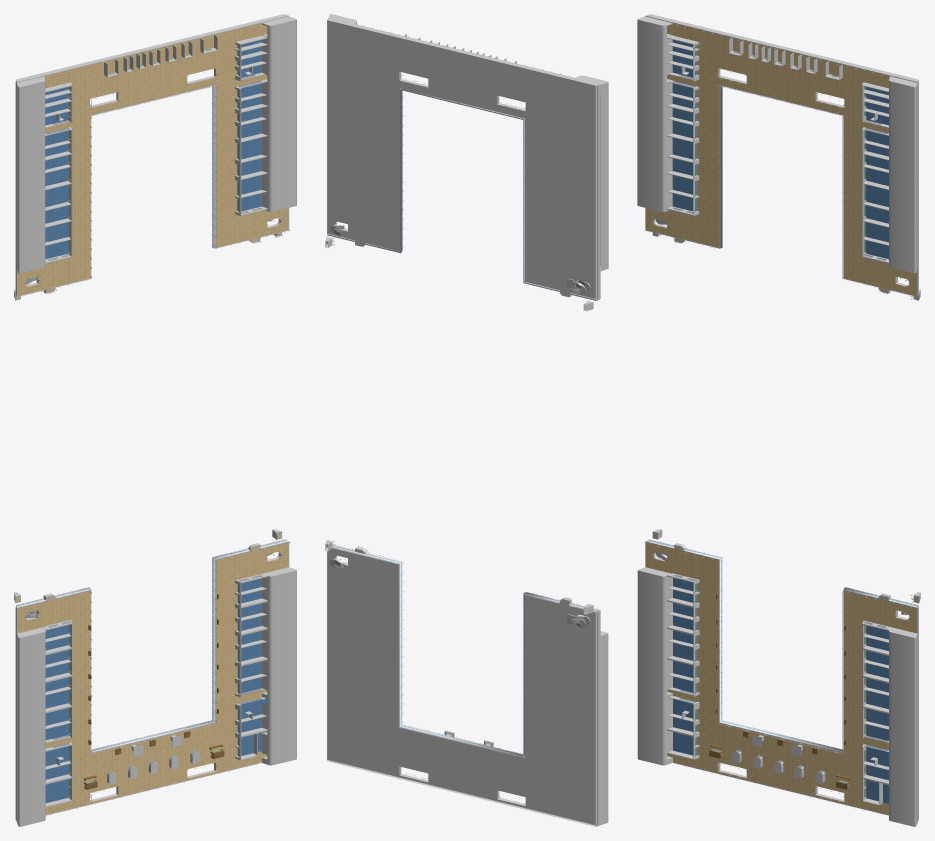
Rendered from 6_3F_DepartUp_Pack.gltf.
3 renders of one model, left to right at view 1: azimuth 30°, elevation 25°; view 2: azimuth 150°, elevation 25°; view 3: azimuth 330°, elevation 25°, orthographic.
Bounding box in the file's own units: 156 × 395 × 13.44.
Materials: 13 (7 with a texture image).
